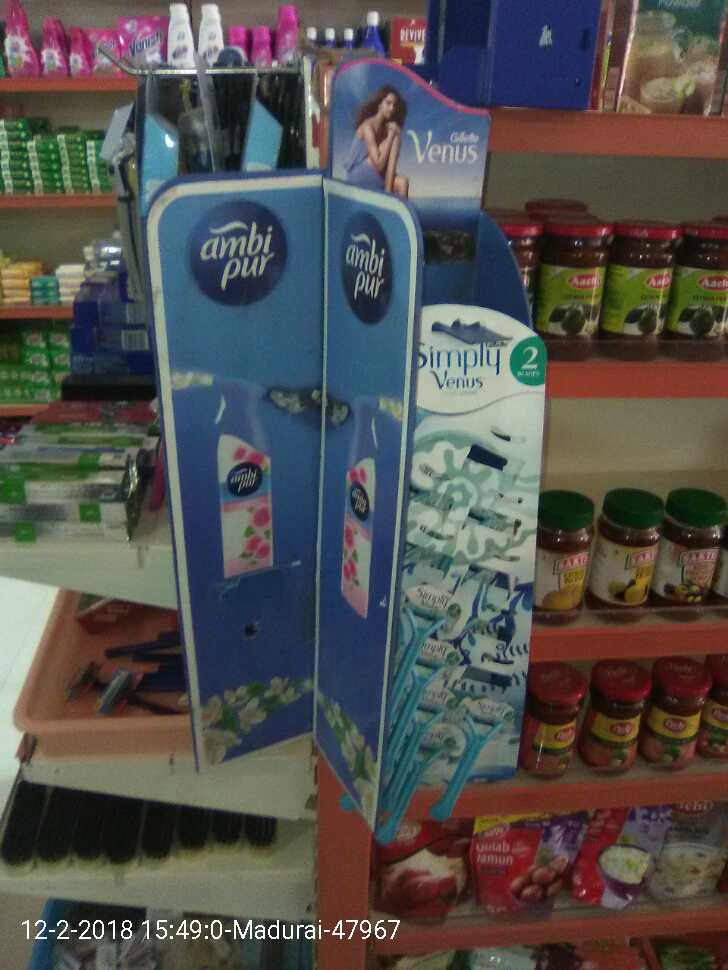reject: (210, 410, 372, 547)
